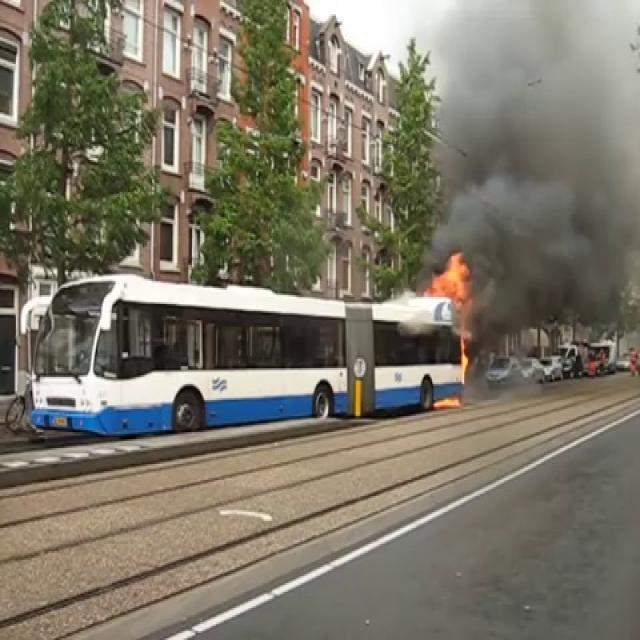Fire: (430, 251, 480, 377)
Smoke: (421, 0, 640, 320)
